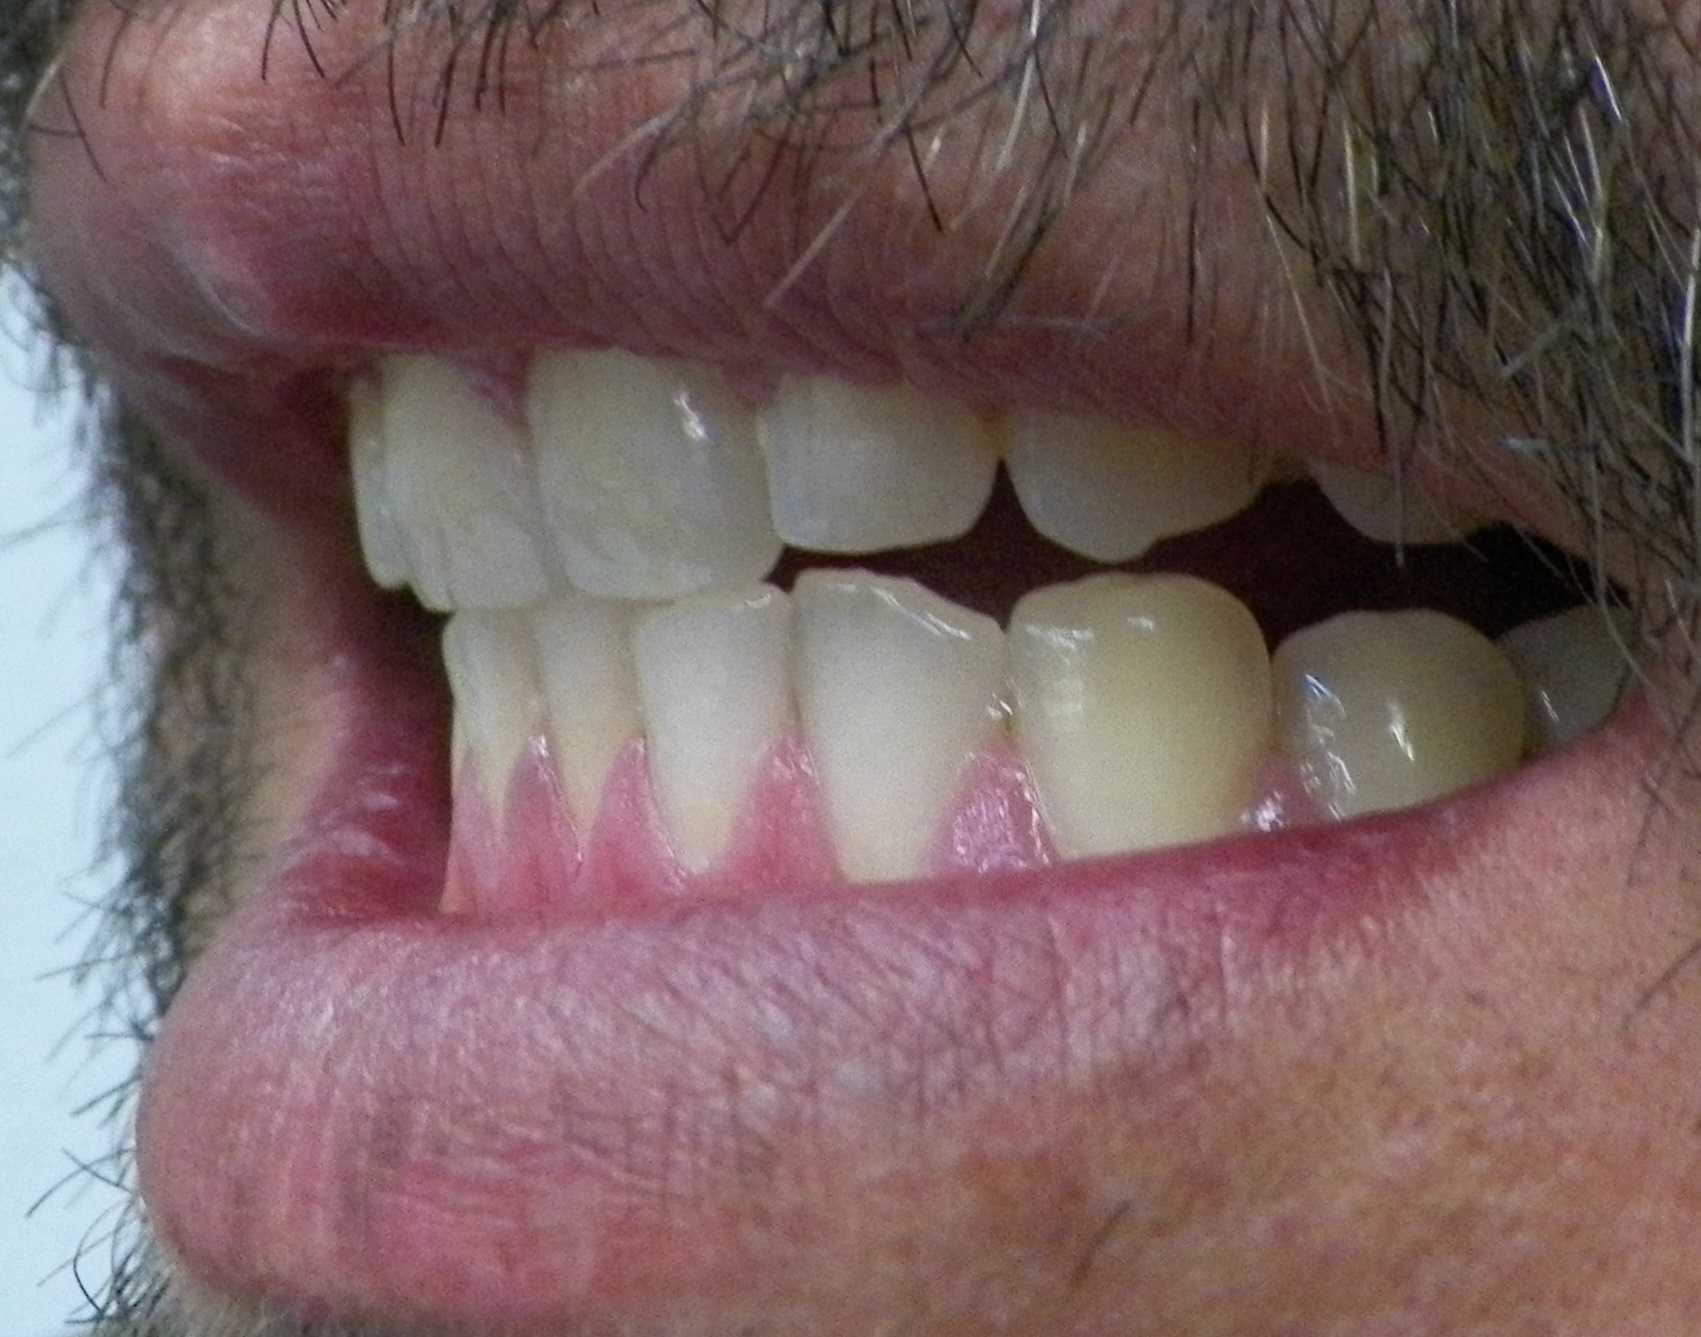boca: (324, 354, 1588, 860)
